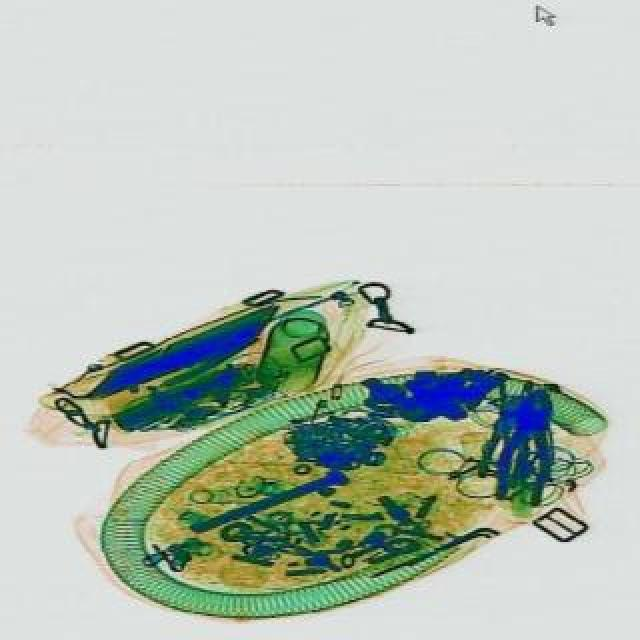wrench: (488, 384, 560, 508), (470, 390, 534, 484)
